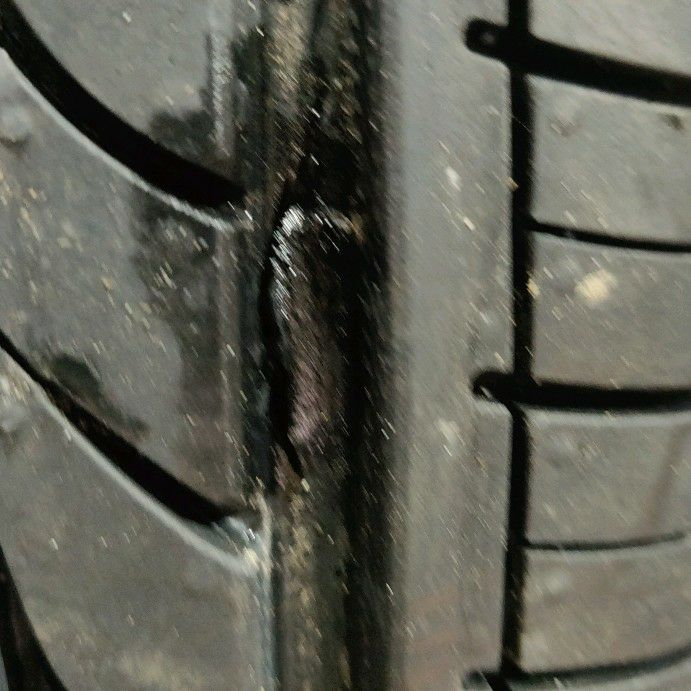tr: (226, 120, 411, 514)
